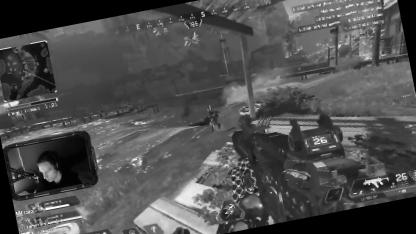Target: (204, 104, 220, 130)
